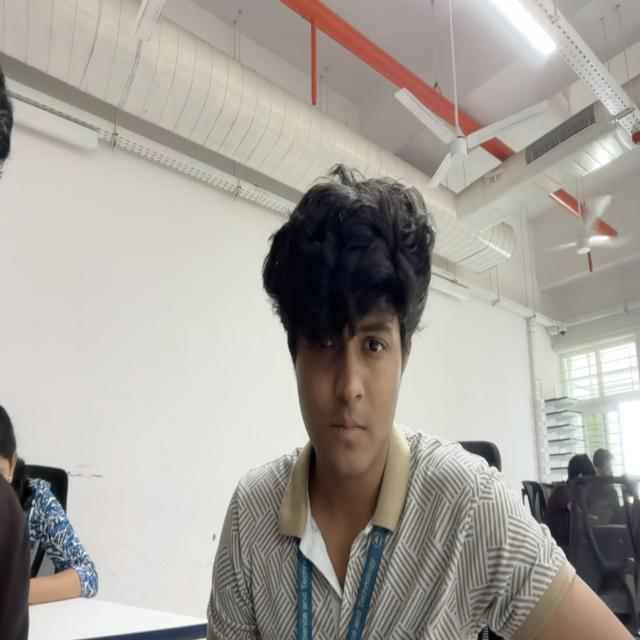kshitij: (263, 174, 434, 480)
